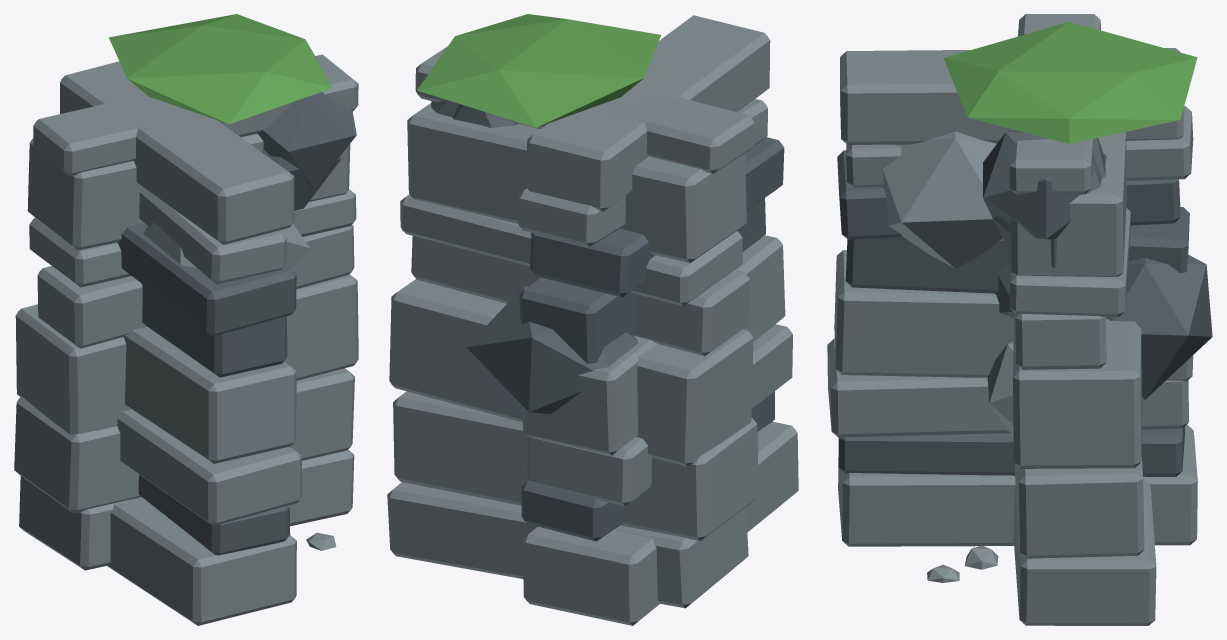
The model's file is cliff_corner.glb.
3 renders of one model, left to right at view 1: azimuth 30°, elevation 25°; view 2: azimuth 150°, elevation 25°; view 3: azimuth 270°, elevation 25°, orthographic. The views are drawn at different scales.
Parts seen in each view (by area): view 1: cliff_corner.001; view 2: cliff_corner.001; view 3: cliff_corner.001.
Part boxes in pixels (left/top/right/bottom): cliff_corner.001: left=14, top=14, right=358, bottom=625; cliff_corner.001: left=387, top=14, right=798, bottom=625; cliff_corner.001: left=827, top=14, right=1212, bottom=625.
Bounding box in the file's own units: 3.26 × 5 × 3.44.
